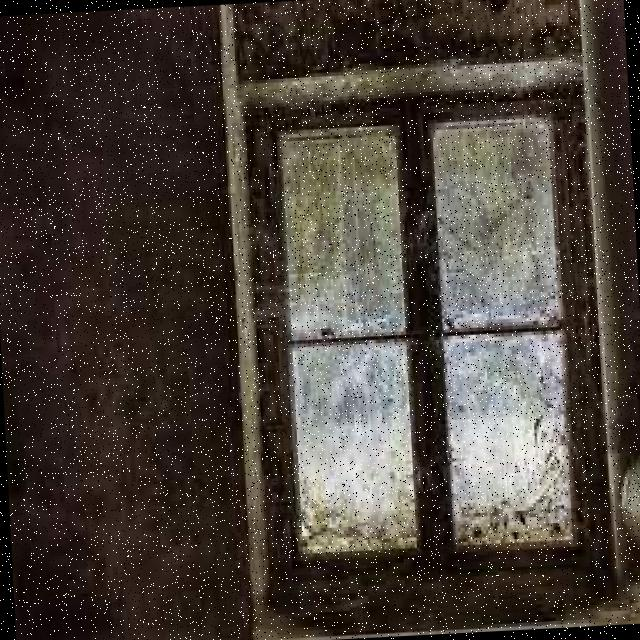Window: (251, 86, 597, 590)
